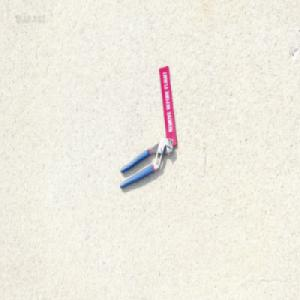Label: (158, 65, 177, 147)
Pliers: (118, 135, 173, 189)
